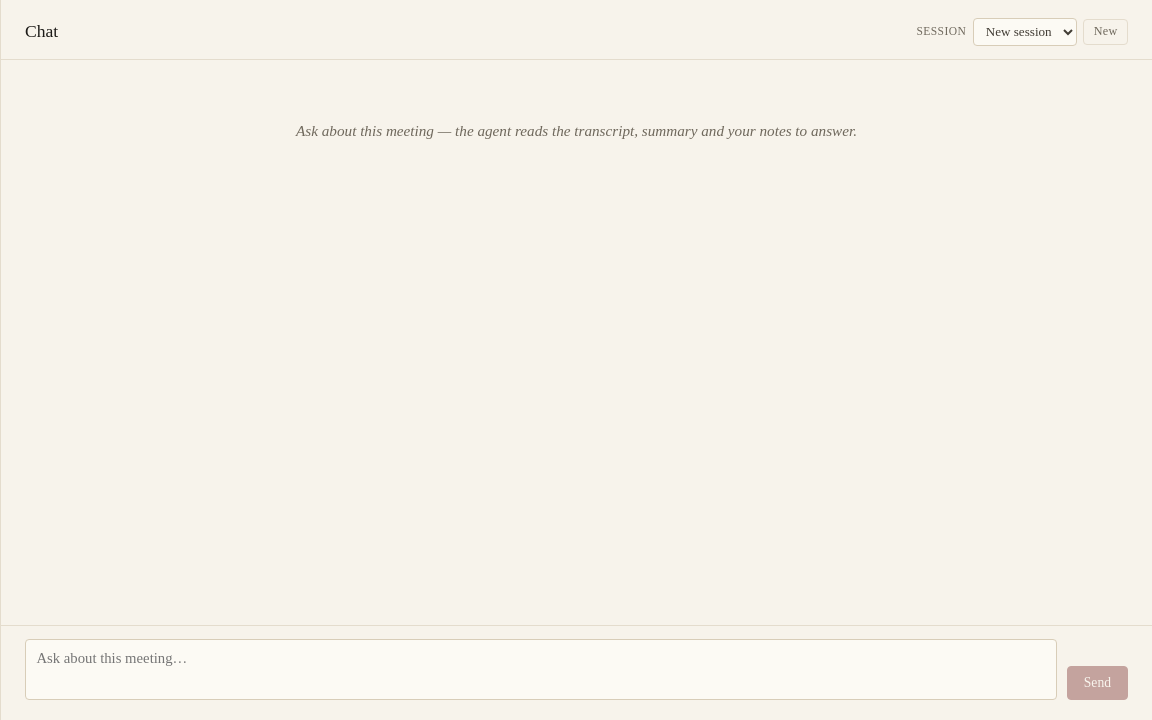
ChatView (Phase 9) › typing + Enter sends through the seam and shows the user message
In the text box named "Message the meeting agent": [541, 670] box 25,639 -> 1057,700, type "What was decided?"
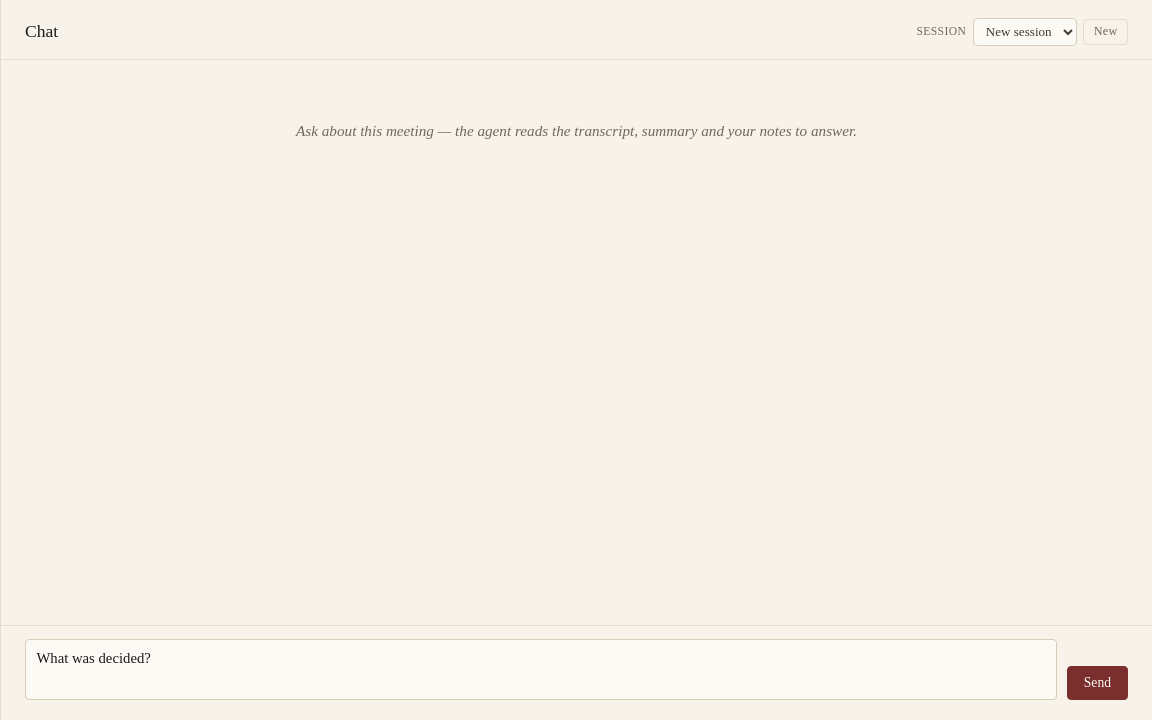
Press Enter in the text box named "Message the meeting agent", box 25,639 -> 1057,700
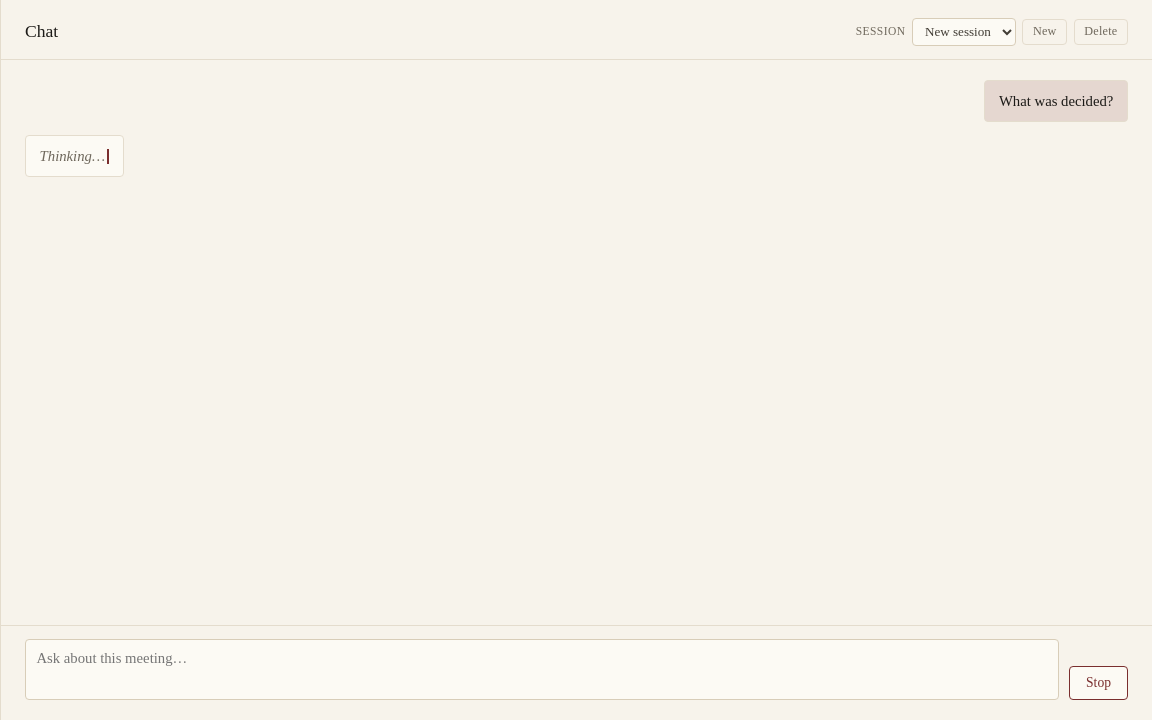
Expected: the text "What was decided?" is shown, 999,90 -> 1113,112
